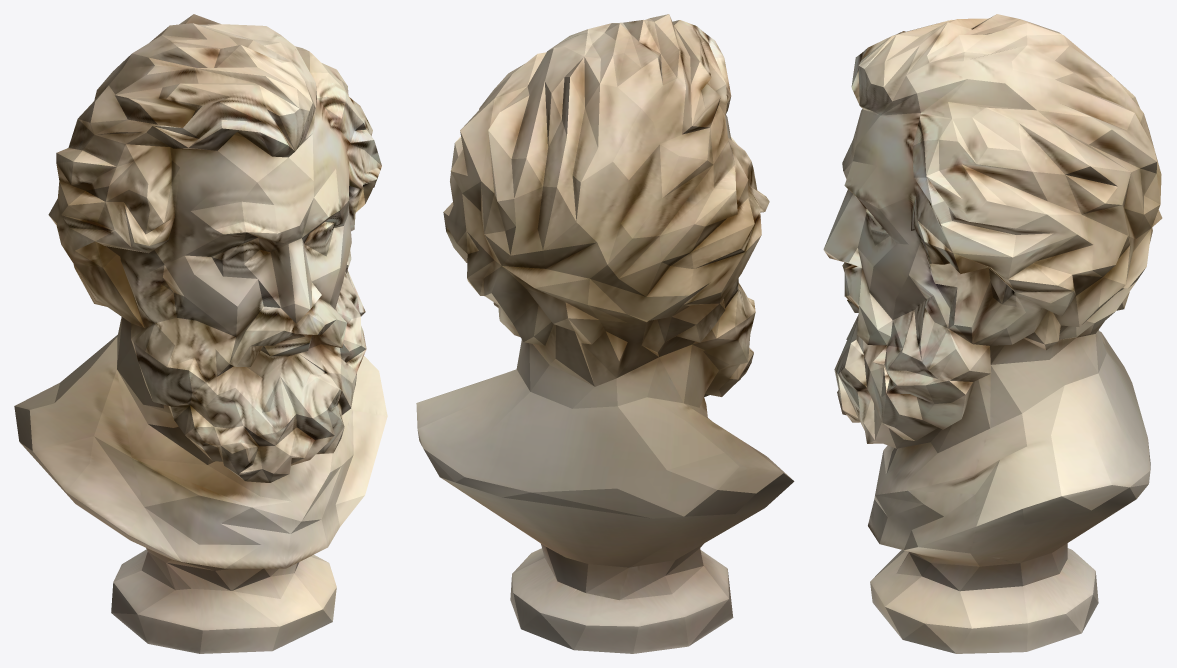
File: bust.glb
The picture shows the model from 3 angles, left to right: view 1: azimuth 30°, elevation 25°; view 2: azimuth 150°, elevation 25°; view 3: azimuth 270°, elevation 25°; orthographic projection.
Visible parts, largest first — view 1: model; view 2: model; view 3: model.
Boxes of the visible parts, x1=… form: model: x1=14, y1=14, x2=387, y2=653; model: x1=416, y1=14, x2=794, y2=653; model: x1=823, y1=14, x2=1162, y2=653.
Bounding box in the file's own units: 1.21 × 1.91 × 1.01.
1 material, 1 textured.
